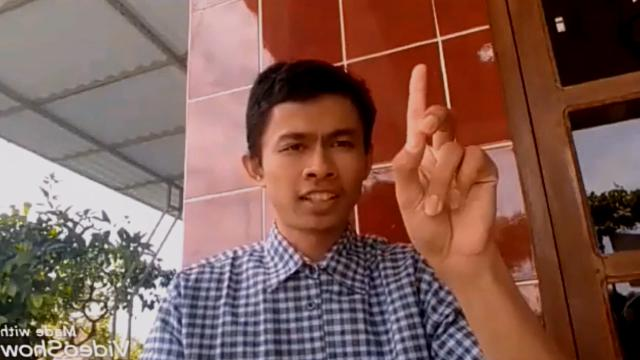D: (391, 62, 501, 266)
